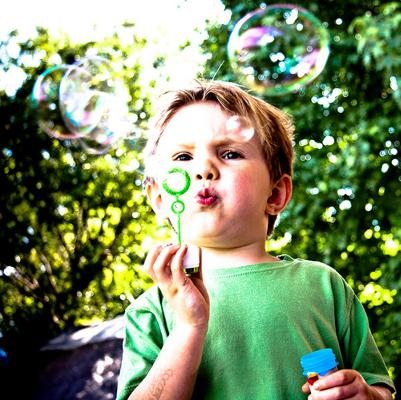person: (110, 74, 391, 400)
